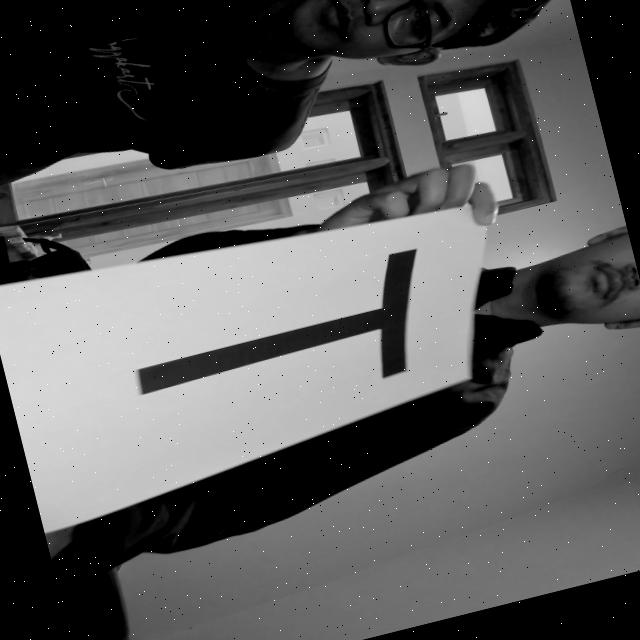t: (92, 230, 454, 457)
